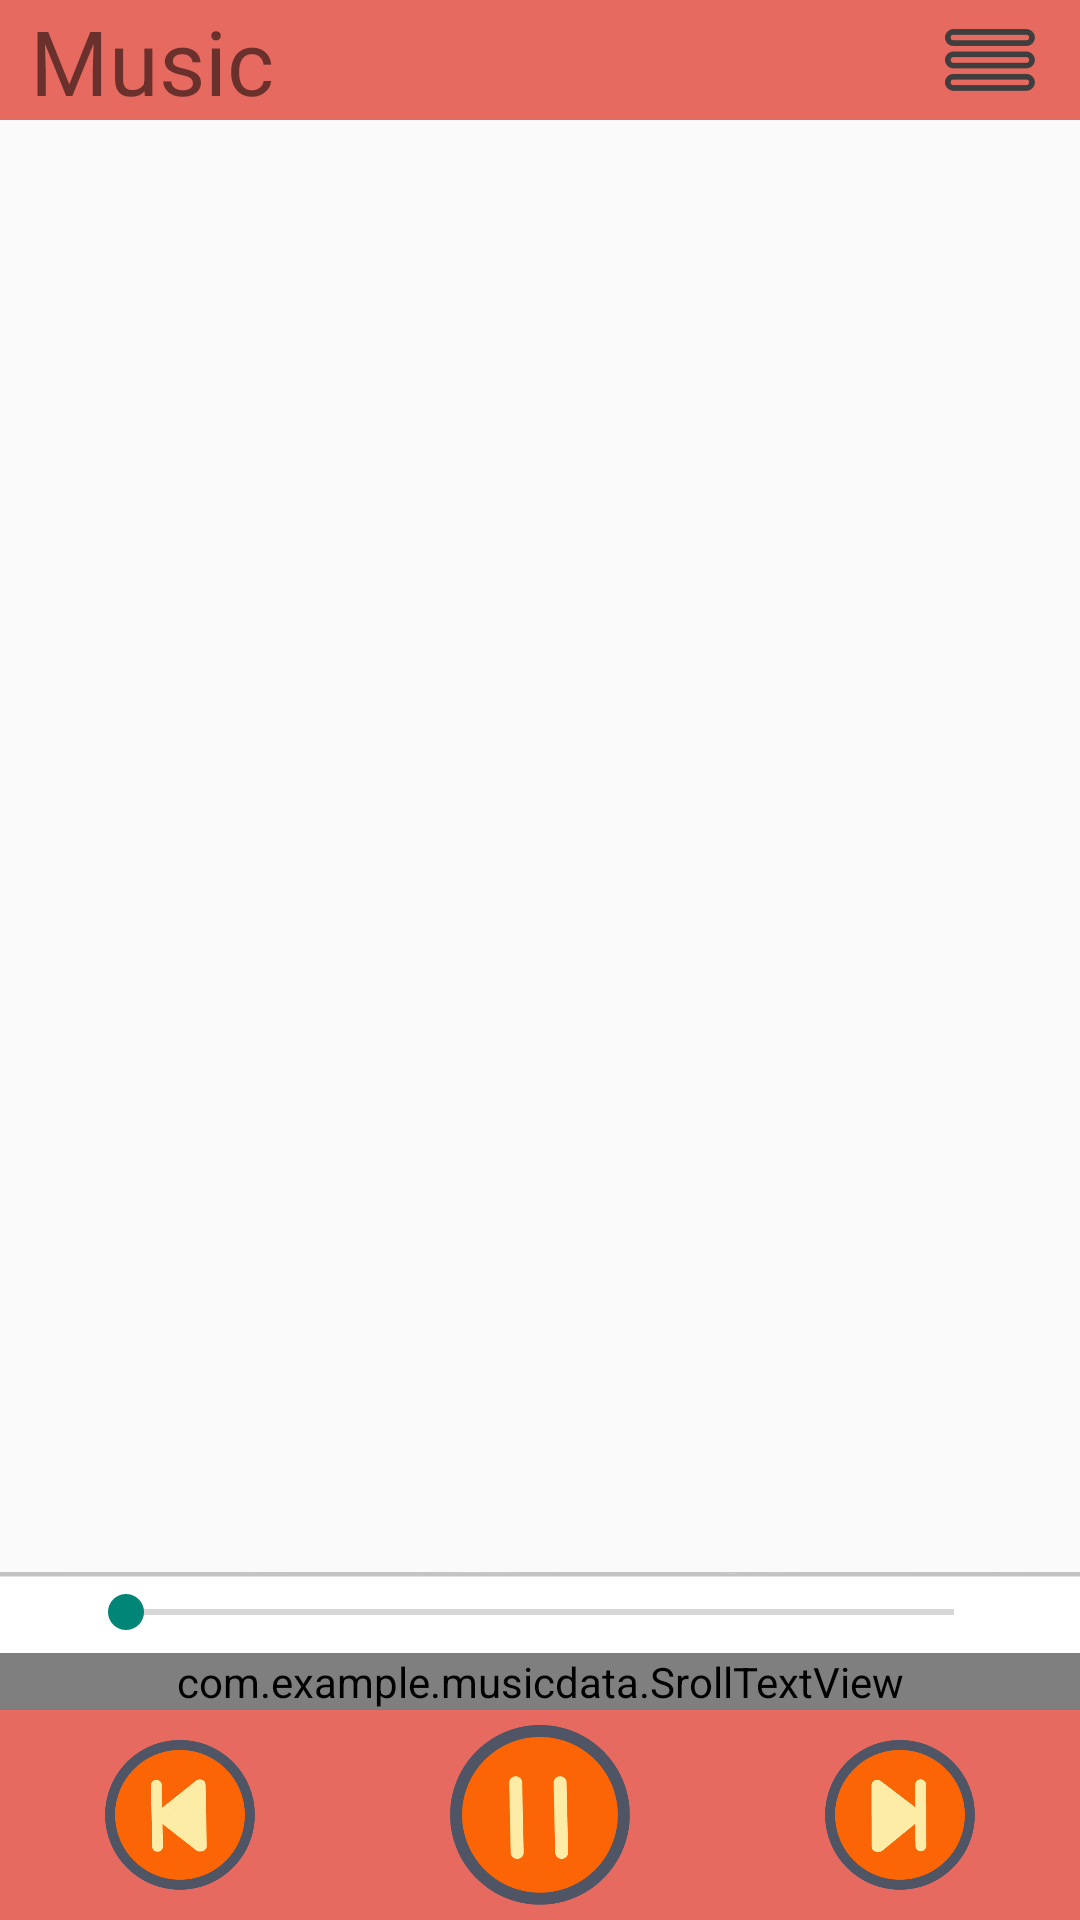

Point at icon controls on the screen. Image size 1080*1920, points as point (x, y).
back: point (180, 1815)
forward: point (900, 1815)
pause: point (540, 1815)
